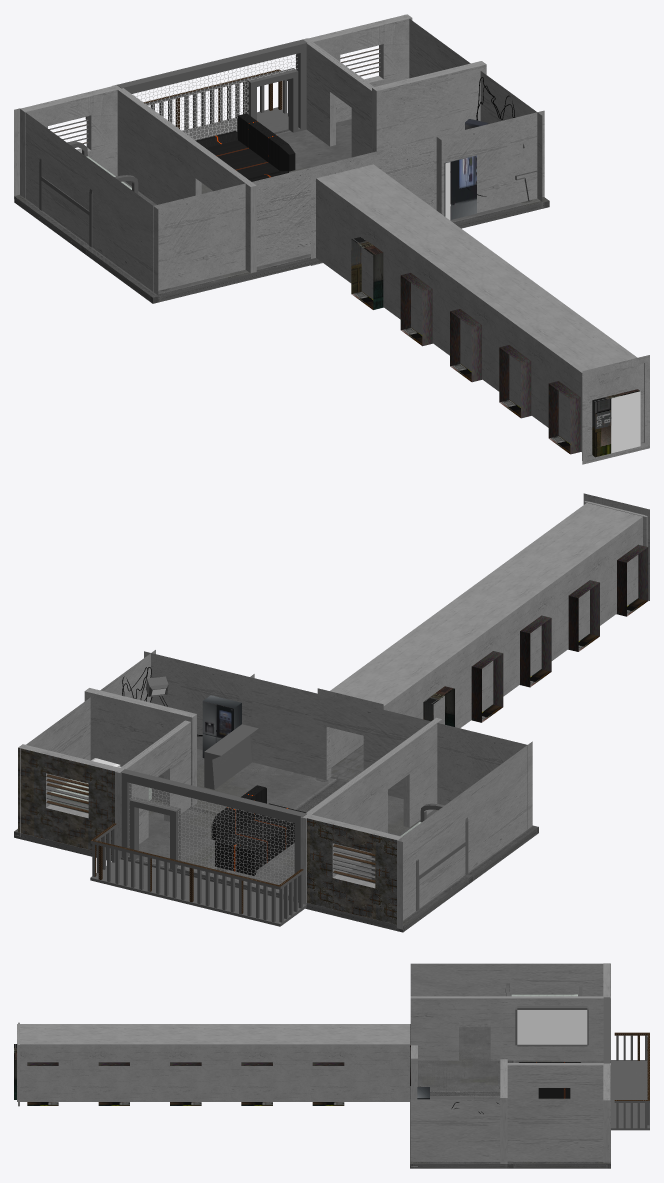
The model's file is Apartment Map.fbx.
The picture shows the model from 3 angles, top to bottom: view 1: azimuth 30°, elevation 25°; view 2: azimuth 150°, elevation 25°; view 3: azimuth 270°, elevation 25°; orthographic projection. The views are drawn at different scales.
Visible parts, largest first — view 1: Cube.012, Cube.001, Cube.002, Cube.009, DoorWay, Cube.006, Cube, Cube.013, Cube.007, Cube.003, Cube.022, Cube.005 (+10 smaller); view 2: Cube.012, Cube, Cube.001, Cube.009, Cube.002, Cube.008, Cube.005, DoorWay, Railing, Cube.013, Cube.022, Cube.019 (+11 smaller); view 3: Cube.012, Cube.004, Cube.002, Cube.001, Cube, Cube.003, Tv, Cube.011, DoorWay.001, Railing, Cube.013, Cube.008 (+3 smaller).
Part boxes in pixels (left/top/right/bottom): Cube.012: left=311, top=156, right=649, bottom=464; Cube.001: left=14, top=108, right=158, bottom=295; Cube.002: left=112, top=84, right=256, bottom=273; Cube.009: left=252, top=137, right=441, bottom=266; DoorWay: left=351, top=236, right=580, bottom=454; Cube.006: left=153, top=183, right=245, bottom=291; Cube: left=14, top=119, right=549, bottom=303; Cube.013: left=372, top=61, right=486, bottom=152; Cube.007: left=434, top=110, right=544, bottom=215; Cube.003: left=303, top=38, right=373, bottom=157; Cube.022: left=117, top=39, right=307, bottom=132; Cube.005: left=20, top=85, right=118, bottom=198; Cube.012: left=317, top=493, right=649, bottom=780; Cube: left=14, top=749, right=538, bottom=932; Cube.001: left=397, top=741, right=532, bottom=929; Cube.009: left=250, top=674, right=430, bottom=798; Cube.002: left=300, top=717, right=442, bottom=904; Cube.008: left=18, top=744, right=122, bottom=854; Cube.005: left=305, top=814, right=402, bottom=924; DoorWay: left=423, top=544, right=648, bottom=726; Railing: left=90, top=823, right=303, bottom=922; Cube.013: left=84, top=688, right=196, bottom=806; Cube.022: left=120, top=769, right=306, bottom=900; Cube.019: left=211, top=785, right=306, bottom=875; Cube.012: left=17, top=1024, right=409, bottom=1101; Cube.004: left=410, top=1099, right=610, bottom=1161; Cube.002: left=410, top=996, right=610, bottom=1060; Cube.001: left=410, top=963, right=610, bottom=1025; Cube: left=410, top=1024, right=610, bottom=1168; Cube.003: left=507, top=1063, right=610, bottom=1099; Tv: left=515, top=1006, right=588, bottom=1046; Cube.011: left=611, top=1060, right=649, bottom=1130; DoorWay.001: left=27, top=1062, right=344, bottom=1105; Railing: left=614, top=1032, right=649, bottom=1128; Cube.013: left=500, top=1059, right=507, bottom=1163; Cube.008: left=603, top=1064, right=610, bottom=1162.
Bounding box in the file's own units: 9310 × 2396 × 17822.
13 materials, 10 textured.
